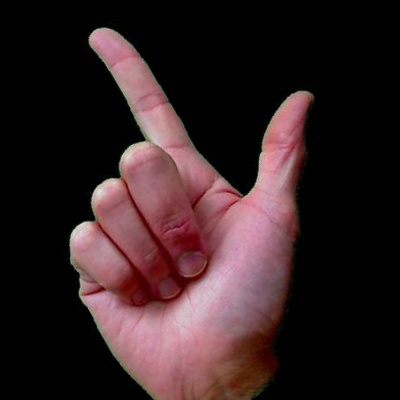l: (1, 1, 398, 394)
